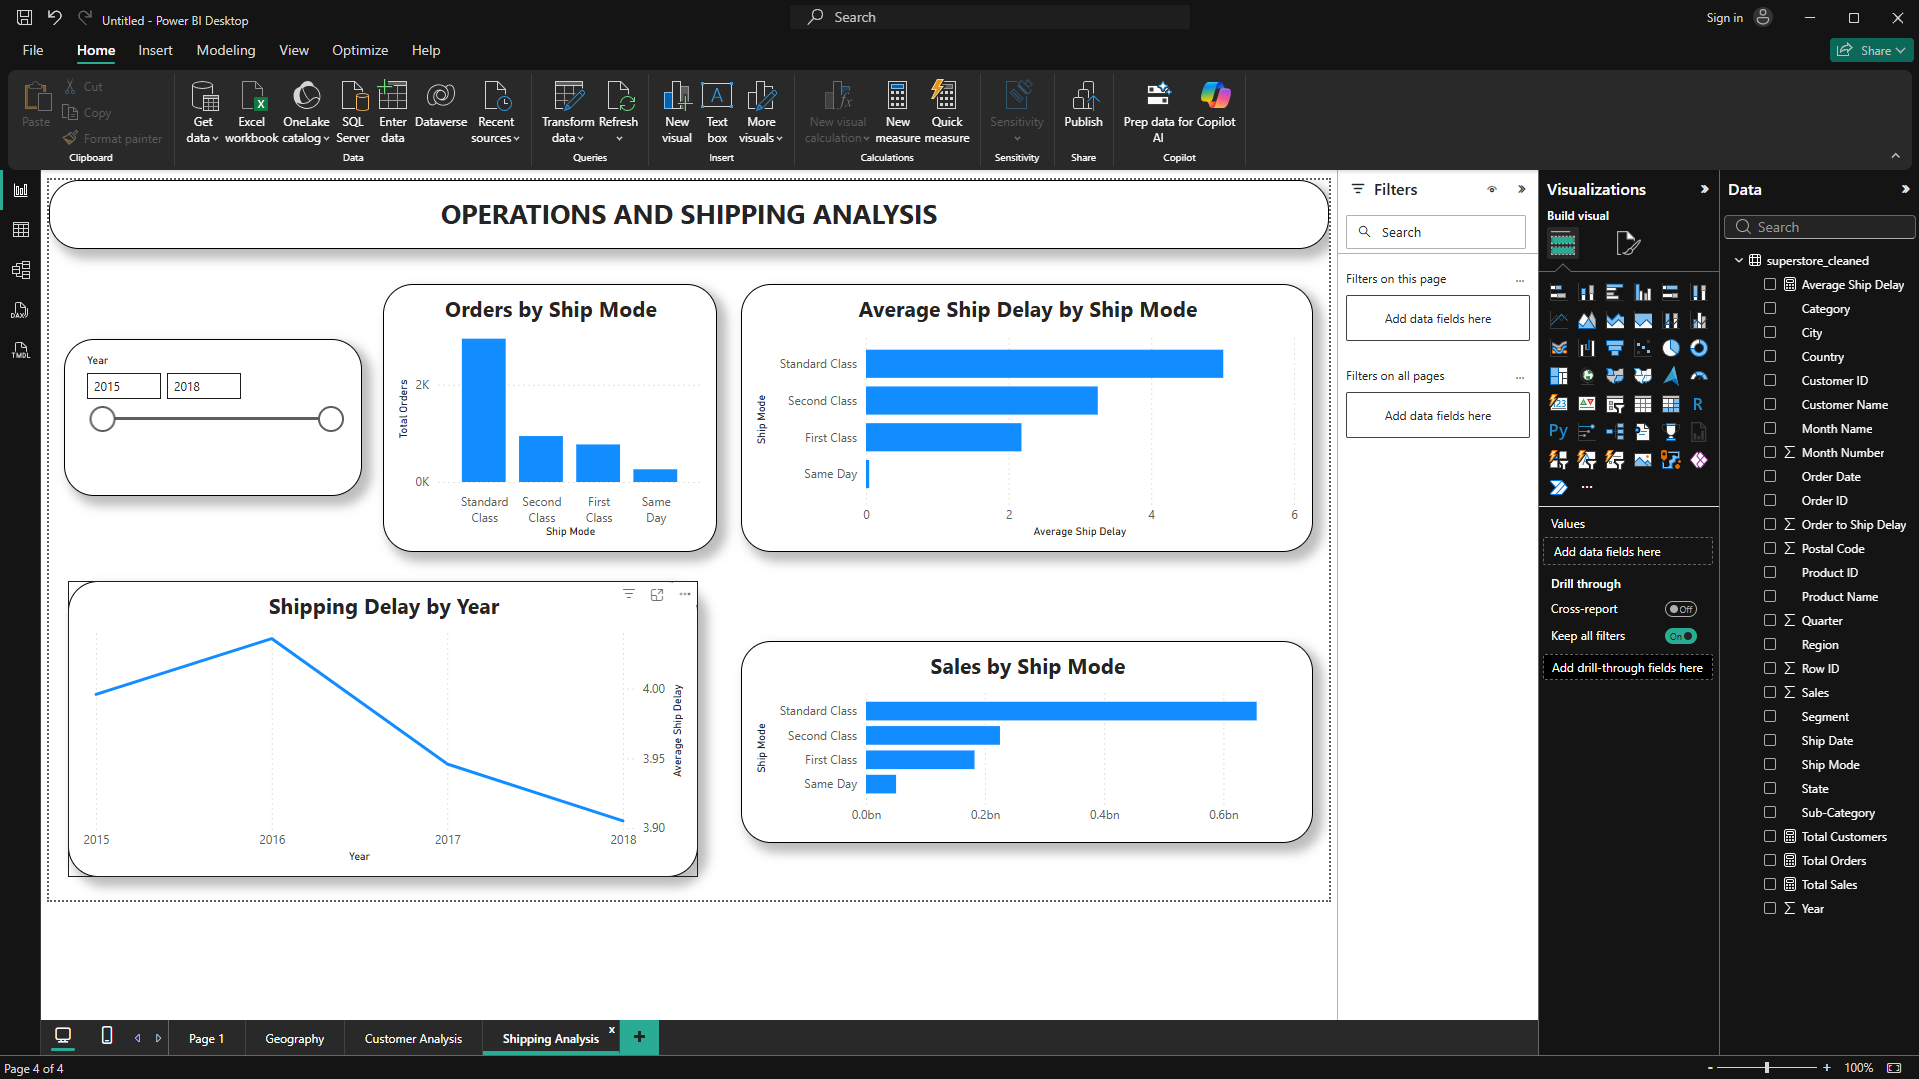

Layout of this report page (visuals, bound fields, positions):
{"tool":"powerbi","page":{"name":"Shipping Analysis","canvas":[1280,720],"ordinal":3},"visuals":[{"type":"textbox","box":[0,0,1280,69],"z":0},{"type":"clusteredBarChart","title":"Average Ship Delay by Ship Mode","fields":{"Category":["superstore_cleaned.Ship Mode"],"Y":["superstore_cleaned.Average Ship Delay"]},"box":[692,104,572,268],"z":1},{"type":"clusteredColumnChart","title":"Orders by Ship Mode","fields":{"Category":["superstore_cleaned.Ship Mode"],"Y":["superstore_cleaned.Total Orders"]},"box":[334,104,334,268],"z":2},{"type":"lineChart","title":"Shipping Delay by Year","fields":{"Category":["superstore_cleaned.Year"],"Y2":["superstore_cleaned.Average Ship Delay"]},"box":[19,401,630,296],"z":3},{"type":"clusteredBarChart","title":"Sales by Ship Mode","fields":{"Category":["superstore_cleaned.Ship Mode"],"Y":["superstore_cleaned.Total Sales"]},"box":[692,461,572,202],"z":4},{"type":"slicer","fields":{"Values":["superstore_cleaned.Year"]},"box":[15,159,298,157],"z":5}]}

Visuals, with their boxes on the page's 1280x720 design canvas (x1, y1, x2, y2). These are canvas units, not pixel positions in the 1919x1079 screenshot, which may show the page scaled, cropped or inside an application window:
textbox: <region>0, 0, 1280, 69</region>
"Average Ship Delay by Ship Mode" clusteredBarChart: <region>692, 104, 1264, 372</region>
"Orders by Ship Mode" clusteredColumnChart: <region>334, 104, 668, 372</region>
"Shipping Delay by Year" lineChart: <region>19, 401, 649, 697</region>
"Sales by Ship Mode" clusteredBarChart: <region>692, 461, 1264, 663</region>
slicer - superstore_cleaned.Year: <region>15, 159, 313, 316</region>
